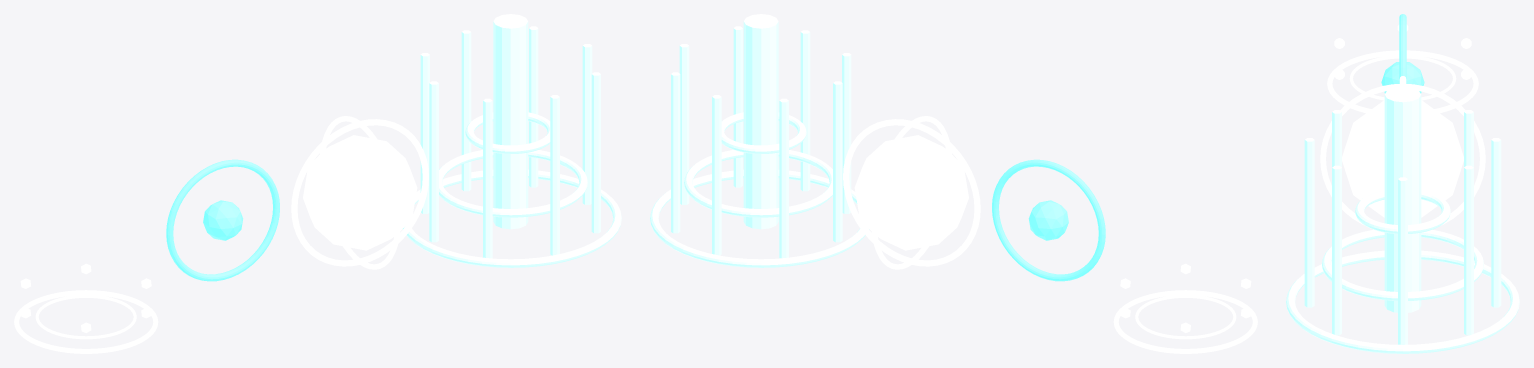
Rendered from delynn_skills_vfx.glb.
3 renders of one model, left to right at view 1: azimuth 30°, elevation 25°; view 2: azimuth 150°, elevation 25°; view 3: azimuth 270°, elevation 25°, orthographic. The views are drawn at different scales.
Parts seen in each view (by area): view 1: VFX_Ultimate, VFX_Skill_2, VFX_Skill_1, VFX_Passive; view 2: VFX_Ultimate, VFX_Skill_2, VFX_Skill_1, VFX_Passive; view 3: VFX_Ultimate, VFX_Skill_2, VFX_Passive, VFX_Skill_1.
Boxes of the visible parts, bbox=[...] form: VFX_Ultimate: bbox=[402, 14, 621, 267]; VFX_Skill_2: bbox=[291, 116, 428, 269]; VFX_Skill_1: bbox=[166, 159, 279, 281]; VFX_Passive: bbox=[14, 263, 158, 353]; VFX_Ultimate: bbox=[650, 14, 869, 267]; VFX_Skill_2: bbox=[843, 116, 980, 269]; VFX_Skill_1: bbox=[992, 159, 1105, 281]; VFX_Passive: bbox=[1113, 263, 1257, 353]; VFX_Ultimate: bbox=[1286, 87, 1519, 353]; VFX_Skill_2: bbox=[1320, 76, 1485, 225]; VFX_Passive: bbox=[1327, 24, 1478, 113]; VFX_Skill_1: bbox=[1381, 14, 1424, 93].
Bounding box in the file's own units: 8.55 × 2.88 × 2.81.
